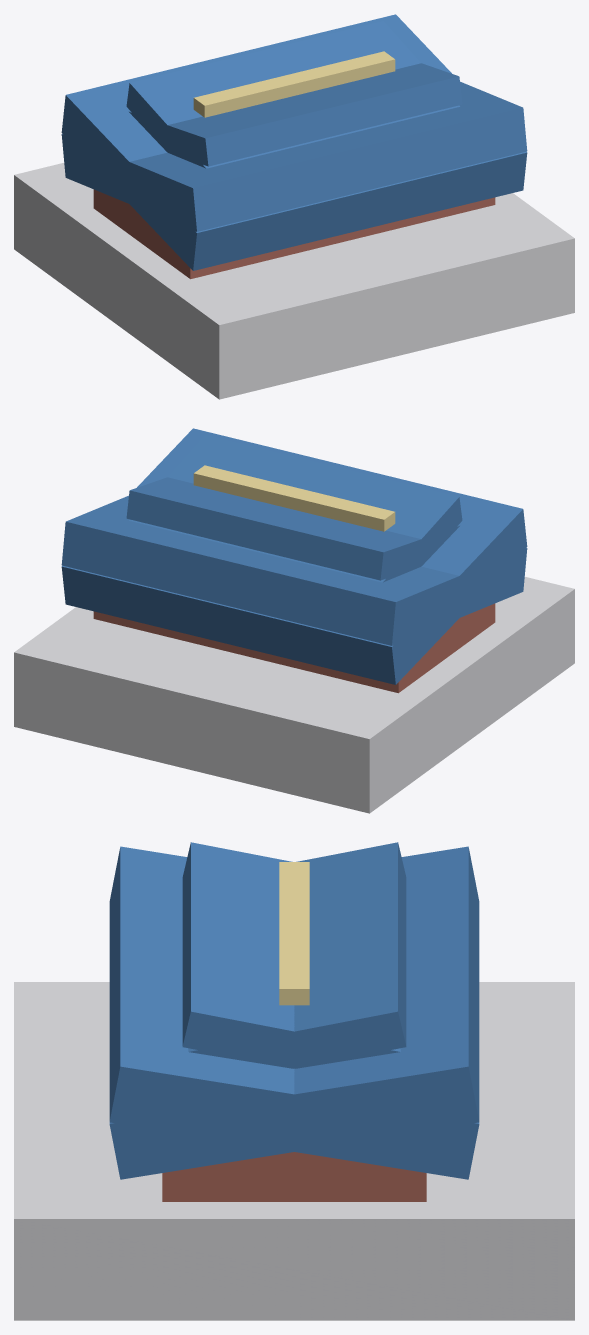
Rendered from third_platform_gyeongbokgung_gate.glb.
3 views of the same model, one above another, from view 1: azimuth 30°, elevation 25°; view 2: azimuth 150°, elevation 25°; view 3: azimuth 270°, elevation 25° (orthographic). The views are drawn at different scales.
Visible parts, largest first — view 1: Cube, Cube.006, Cube.005, Cube.008, Cube.007, Cube.001, Cube.009; view 2: Cube, Cube.005, Cube.006, Cube.007, Cube.008, Cube.001, Cube.009; view 3: Cube, Cube.005, Cube.006, Cube.007, Cube.008, Cube.001, Cube.009.
Boxes of the visible parts, left/top/right/bottom form: Cube: left=14, top=163, right=574, bottom=399; Cube.006: left=61, top=81, right=527, bottom=231; Cube.005: left=61, top=14, right=527, bottom=270; Cube.008: left=129, top=63, right=462, bottom=166; Cube.007: left=126, top=21, right=459, bottom=168; Cube.001: left=93, top=189, right=495, bottom=279; Cube.009: left=193, top=51, right=395, bottom=117; Cube: left=14, top=577, right=574, bottom=813; Cube.005: left=61, top=495, right=527, bottom=645; Cube.006: left=61, top=428, right=527, bottom=684; Cube.007: left=126, top=477, right=459, bottom=580; Cube.008: left=129, top=435, right=462, bottom=582; Cube.001: left=93, top=603, right=495, bottom=693; Cube.009: left=193, top=465, right=395, bottom=531; Cube: left=14, top=982, right=574, bottom=1320; Cube.005: left=109, top=846, right=479, bottom=1179; Cube.006: left=109, top=846, right=479, bottom=1179; Cube.007: left=188, top=842, right=406, bottom=1068; Cube.008: left=182, top=842, right=400, bottom=1068; Cube.001: left=162, top=1152, right=426, bottom=1201; Cube.009: left=279, top=862, right=309, bottom=1005.
Bounding box in the file's own units: 3.2 × 1.74 × 3.2.
